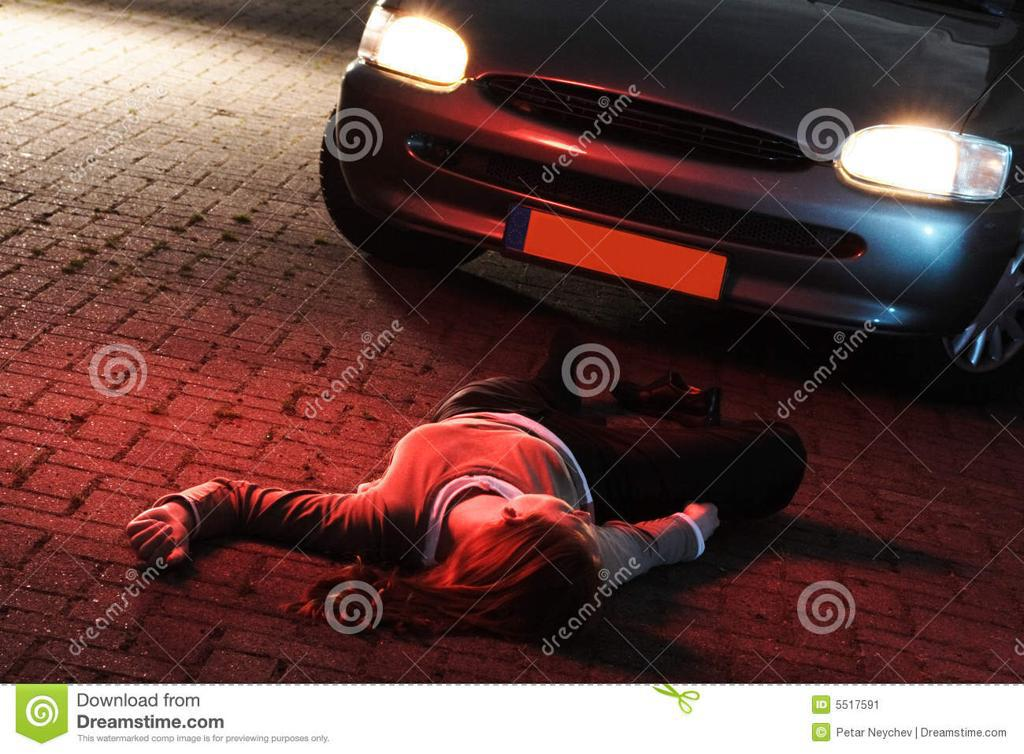face: (519, 487, 583, 573)
